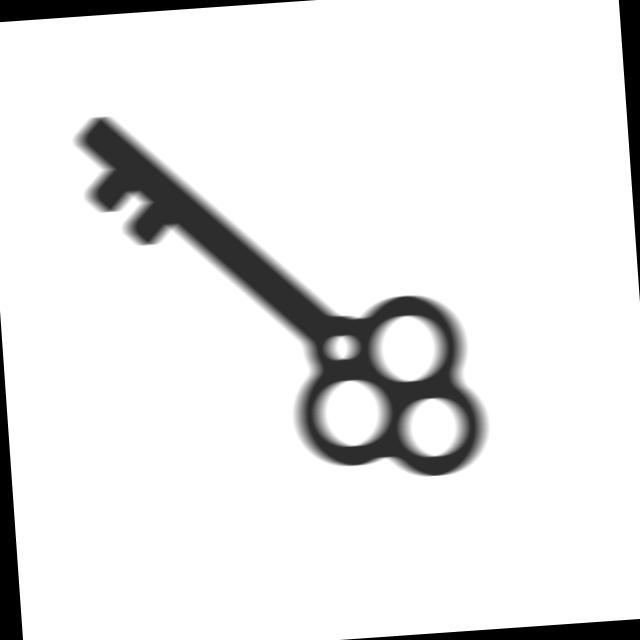key: (62, 83, 500, 510)
